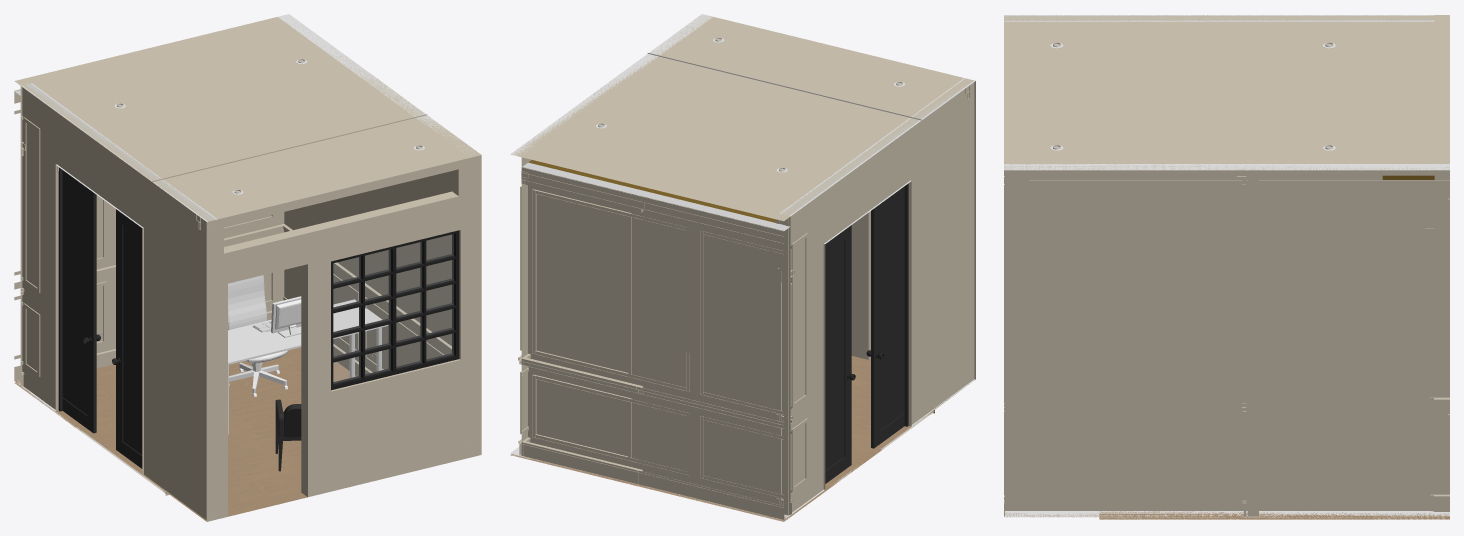
Rendered from office-east-0cee0a96c80a.glb.
3 renders of one model, left to right at view 1: azimuth 30°, elevation 25°; view 2: azimuth 150°, elevation 25°; view 3: azimuth 270°, elevation 25°, orthographic. The views are drawn at different scales.
Visible parts, largest first — view 1: office-east-72f8f5982ac3dc36, office-east-7dc307bfa7ee071d, office-east-2575515a05775d9e, office-east-6a1144f4e43410bb, office-east-7e39e4af19a71cea, office-east-dbd60ee5c3733ed6, office-east-bc466264917d70e2, office-east-3b0077416469e01b, office-east-e2162daab8de086b, office-east-19647d6da46c2b80, office-east-c374268555806af8, office-east-cdd0c092fe0e927f (+15 smaller); view 2: office-east-19647d6da46c2b80, office-east-72f8f5982ac3dc36, office-east-2575515a05775d9e, office-east-7e39e4af19a71cea, office-east-dbd60ee5c3733ed6, office-east-7dc307bfa7ee071d, office-east-6a1144f4e43410bb, office-east-7b51444cc162b982, office-east-3b0077416469e01b, office-east-69ebde2cee50514f, office-east-99102bcd8e097289, office-east-125d9c43a6f0152d (+15 smaller); view 3: office-east-6a1144f4e43410bb, office-east-2575515a05775d9e, office-east-dbd60ee5c3733ed6, office-east-7dc307bfa7ee071d, office-east-2c29ddcb8551cb02, office-east-e54d813e60c9e7c4, office-east-0e637d2be41161fb, office-east-19647d6da46c2b80, office-east-dad9e1d33ae8d77b, office-east-3b0077416469e01b, office-east-09d9be919fb5379f, office-east-0811b6b476584948 (+4 smaller).
Part boxes in pixels (x1,y1,x2,y2): office-east-72f8f5982ac3dc36: (20, 83, 218, 521); office-east-7dc307bfa7ee071d: (212, 153, 470, 518); office-east-2575515a05775d9e: (14, 15, 427, 181); office-east-6a1144f4e43410bb: (278, 14, 481, 457); office-east-7e39e4af19a71cea: (58, 167, 142, 468); office-east-dbd60ee5c3733ed6: (153, 115, 481, 220); office-east-bc466264917d70e2: (333, 234, 453, 383); office-east-3b0077416469e01b: (14, 347, 356, 493); office-east-e2162daab8de086b: (228, 275, 388, 434); office-east-19647d6da46c2b80: (15, 90, 284, 384); office-east-c374268555806af8: (166, 459, 307, 521); office-east-cdd0c092fe0e927f: (23, 117, 40, 293); office-east-19647d6da46c2b80: (522, 162, 790, 518); office-east-72f8f5982ac3dc36: (779, 78, 975, 515); office-east-2575515a05775d9e: (511, 55, 911, 221); office-east-7e39e4af19a71cea: (825, 183, 908, 483); office-east-dbd60ee5c3733ed6: (647, 15, 964, 120); office-east-7dc307bfa7ee071d: (707, 17, 960, 359); office-east-6a1144f4e43410bb: (510, 14, 712, 455); office-east-7b51444cc162b982: (521, 167, 784, 243); office-east-3b0077416469e01b: (510, 389, 934, 521); office-east-69ebde2cee50514f: (532, 189, 689, 391); office-east-99102bcd8e097289: (521, 442, 784, 519); office-east-125d9c43a6f0152d: (532, 189, 631, 376); office-east-6a1144f4e43410bb: (1004, 164, 1449, 517); office-east-2575515a05775d9e: (1130, 15, 1449, 170); office-east-dbd60ee5c3733ed6: (1004, 15, 1130, 170); office-east-7dc307bfa7ee071d: (1004, 21, 1019, 494); office-east-2c29ddcb8551cb02: (1004, 494, 1431, 510); office-east-e54d813e60c9e7c4: (1029, 180, 1449, 194); office-east-0e637d2be41161fb: (1247, 169, 1258, 517); office-east-19647d6da46c2b80: (1434, 175, 1449, 494); office-east-dad9e1d33ae8d77b: (1029, 397, 1431, 404); office-east-3b0077416469e01b: (1099, 511, 1449, 519); office-east-09d9be919fb5379f: (1005, 414, 1246, 485); office-east-0811b6b476584948: (1004, 21, 1435, 25).
Size of the model in its own units: 2.88 by 3.05 by 3.49.
Materials: 19 (4 with a texture image).
